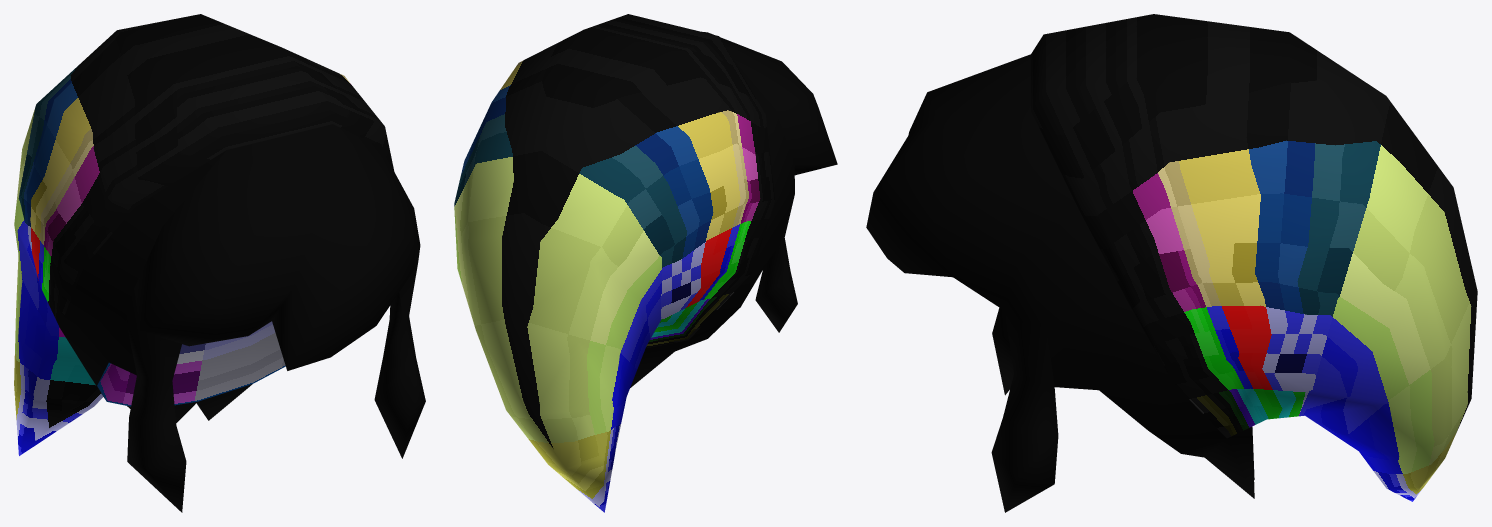
The model's file is hat_link_model.glb.
3 views of the same model, side by side, from view 1: azimuth 30°, elevation 25°; view 2: azimuth 150°, elevation 25°; view 3: azimuth 270°, elevation 25° (orthographic). The views are drawn at different scales.
Visible parts, largest first — view 1: hat_link_model; view 2: hat_link_model; view 3: hat_link_model.
Part boxes in pixels (x1,y1,x2,y2): hat_link_model: (14,14,425,512); hat_link_model: (454,14,837,512); hat_link_model: (866,14,1477,512).
Size of the model in its own units: 64.92 by 85.96 by 94.71.
Materials: 1 (1 with a texture image).
